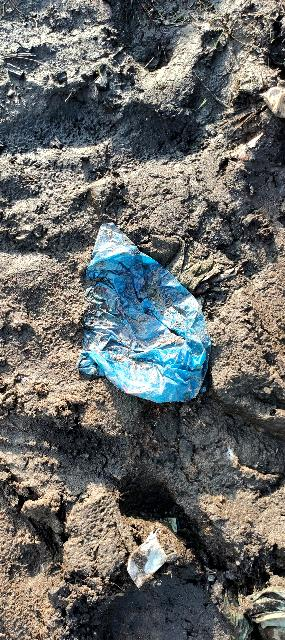polythene: (84, 211, 210, 411)
